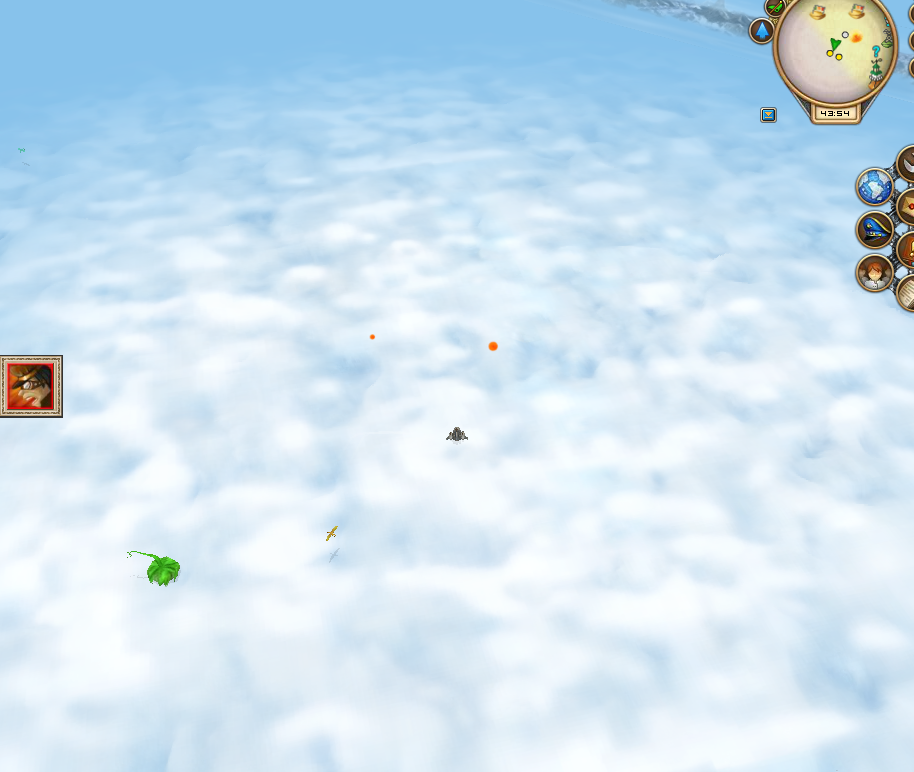fluff: (485, 338, 500, 353), (367, 330, 378, 344)
palm: (124, 542, 184, 589)
